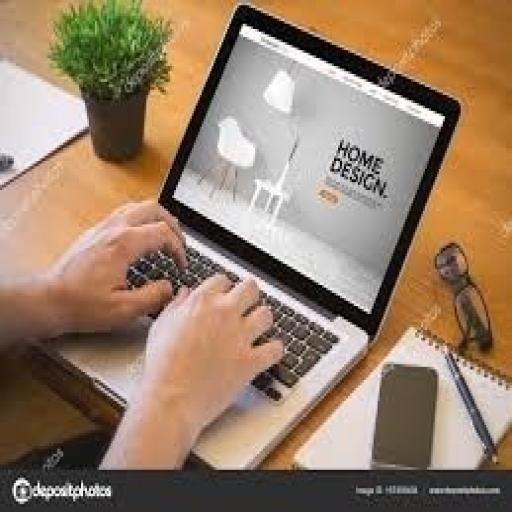using_laptop: (28, 0, 462, 470)
